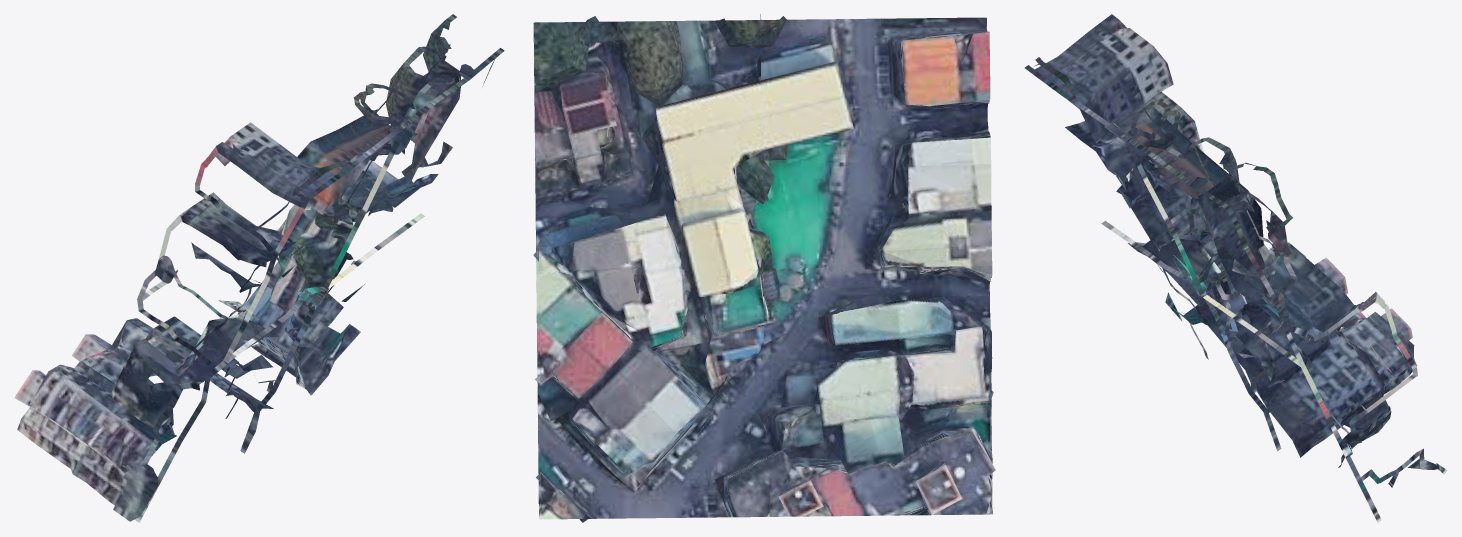
The picture shows the model from 3 angles, left to right: view 1: azimuth 30°, elevation 25°; view 2: azimuth 150°, elevation 25°; view 3: azimuth 270°, elevation 25°; orthographic projection. The views are drawn at different scales.
Size of the model in its own units: 88.35 by 75.53 by 75.31.
2 materials, 2 textured.
